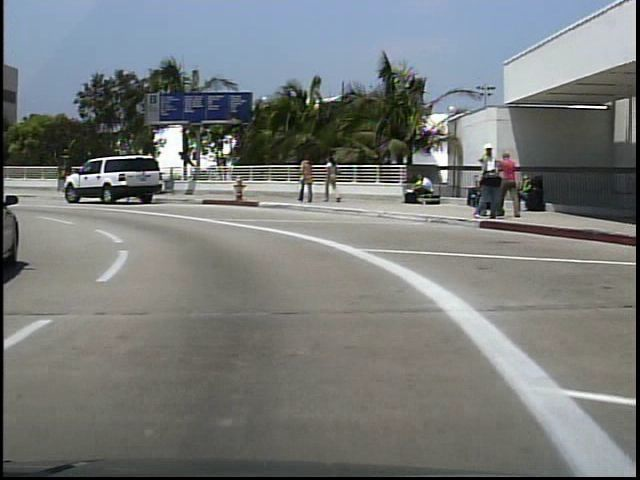person: (475, 140, 500, 222), (497, 148, 519, 221), (296, 150, 315, 206), (323, 154, 343, 207), (407, 174, 432, 207)
